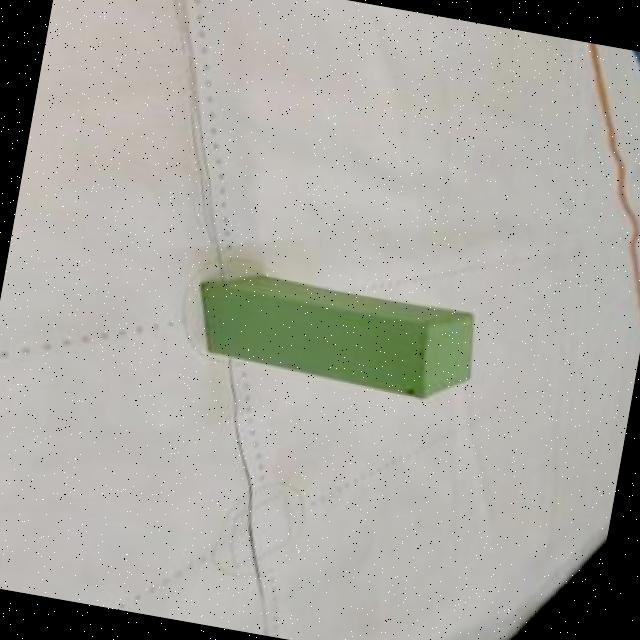greenbox: (188, 261, 481, 408)
